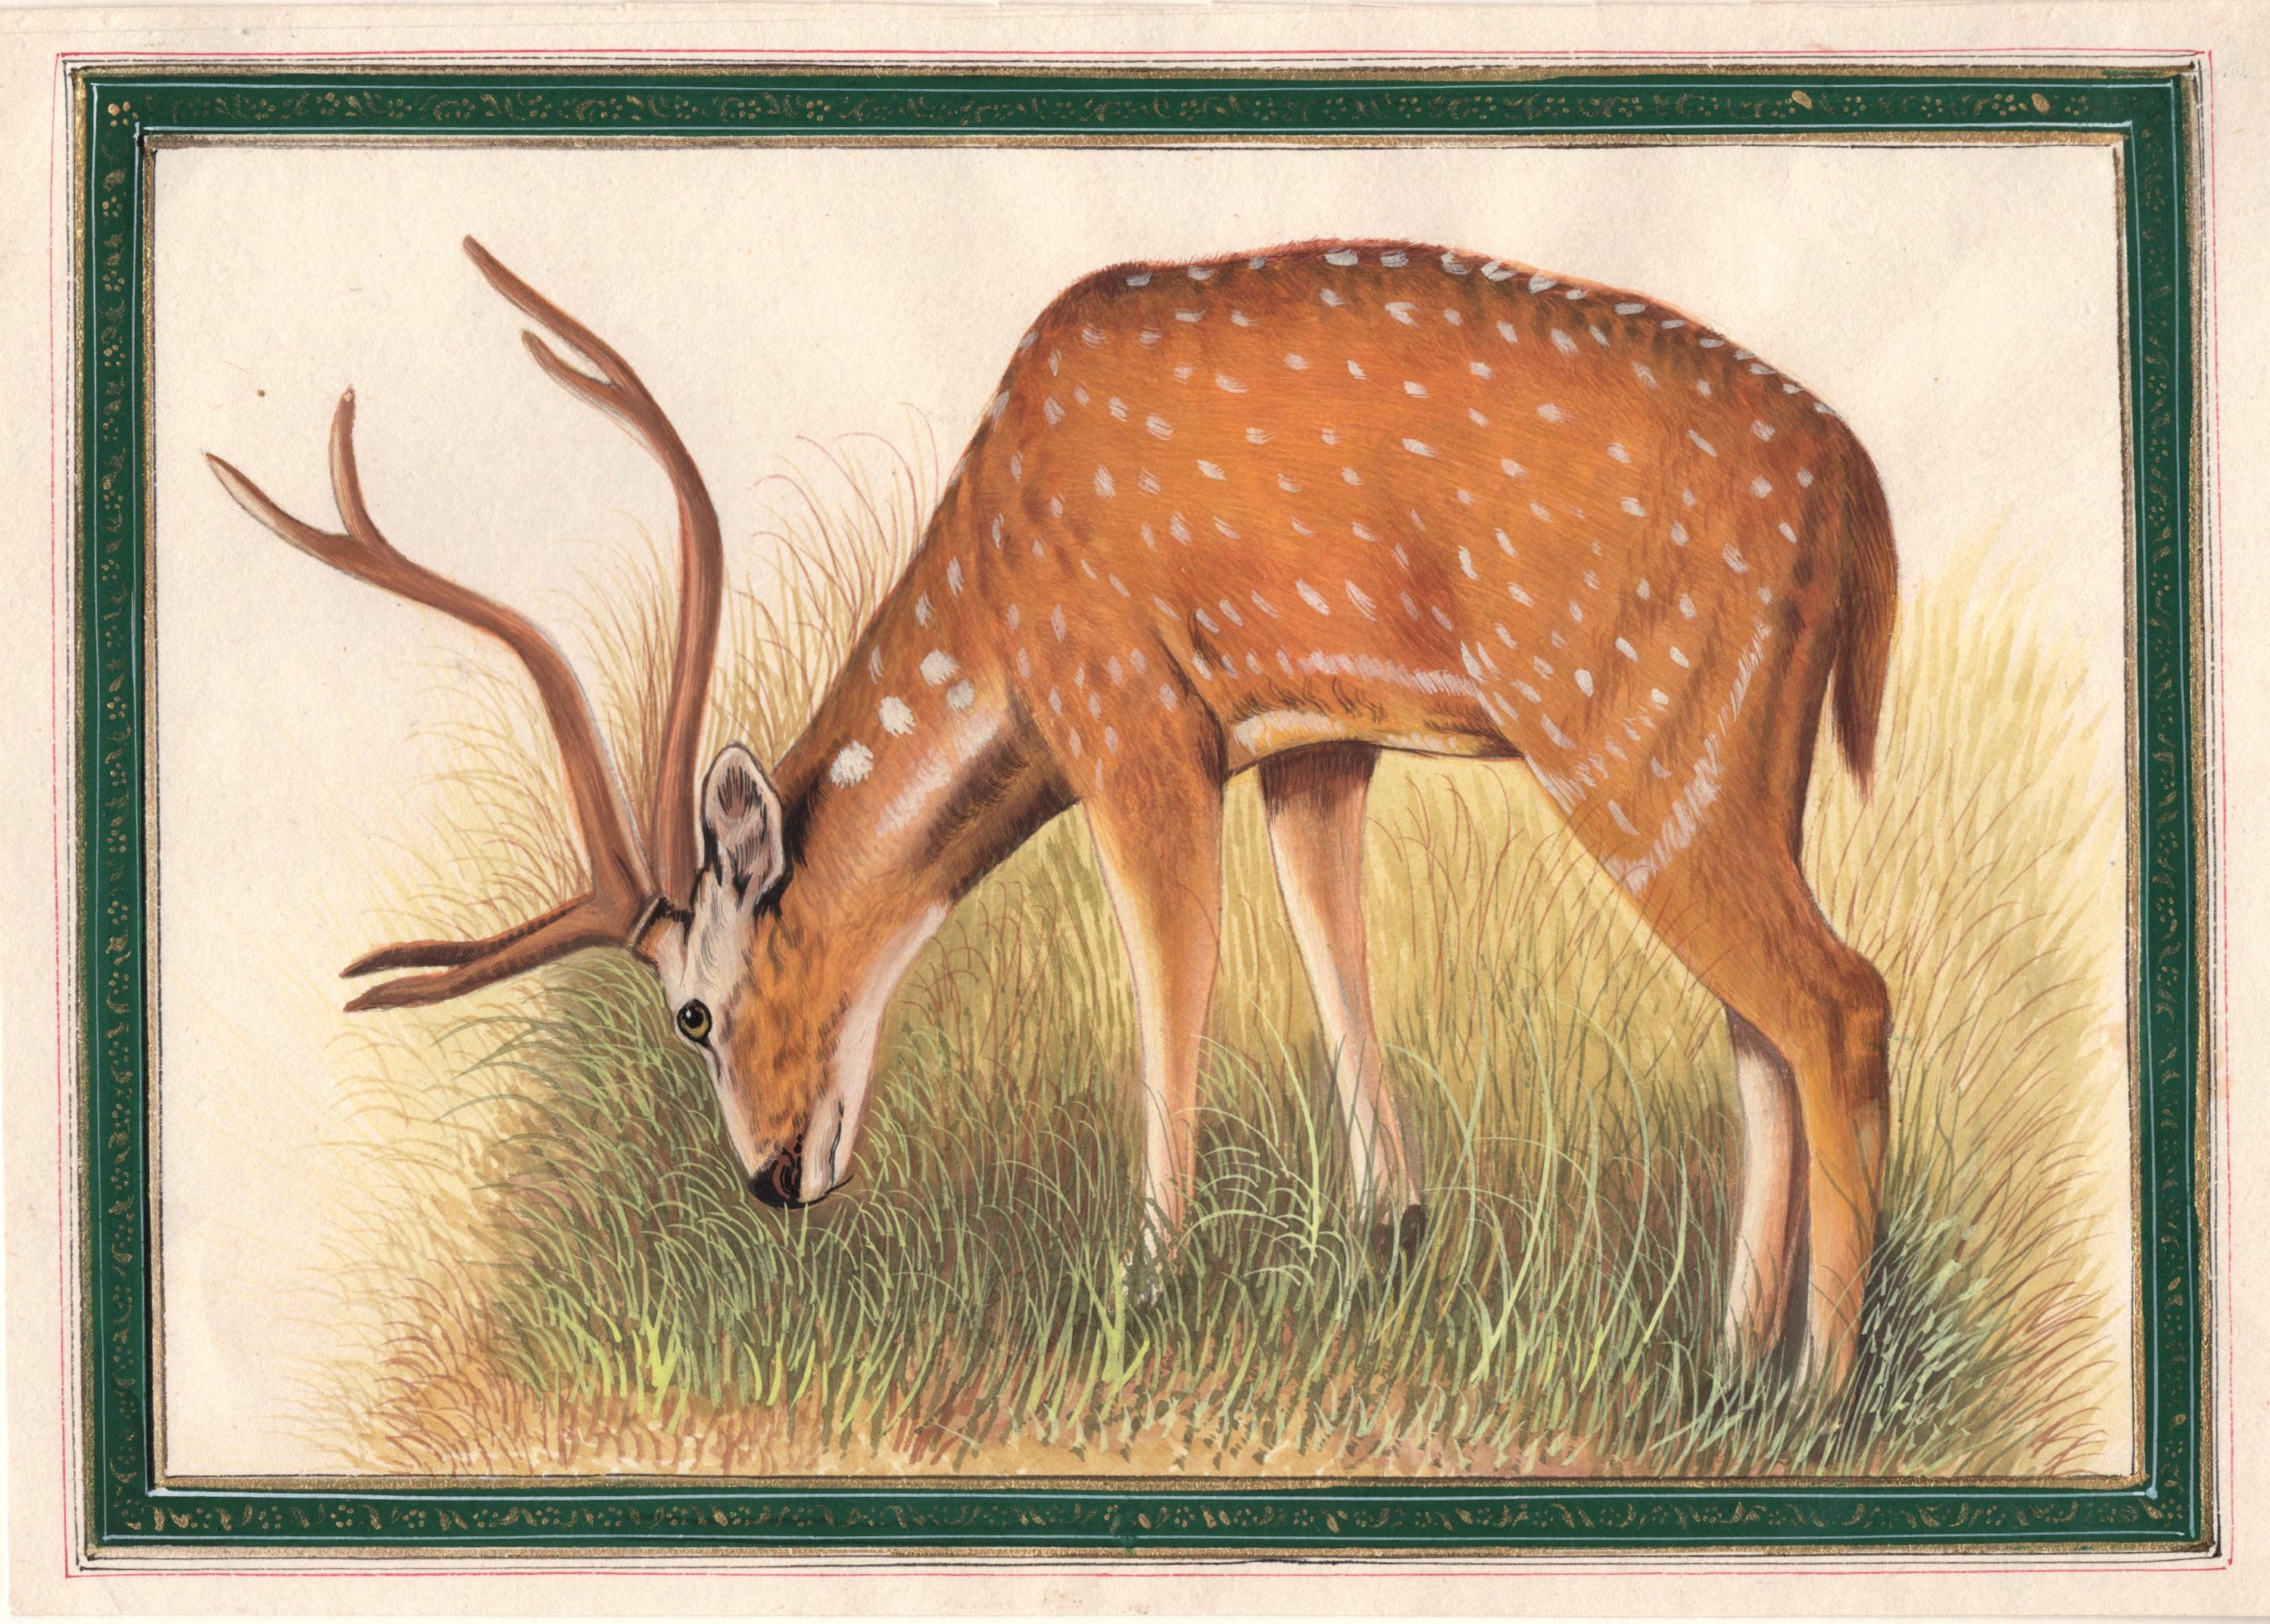Deer: (204, 234, 1927, 1383)
